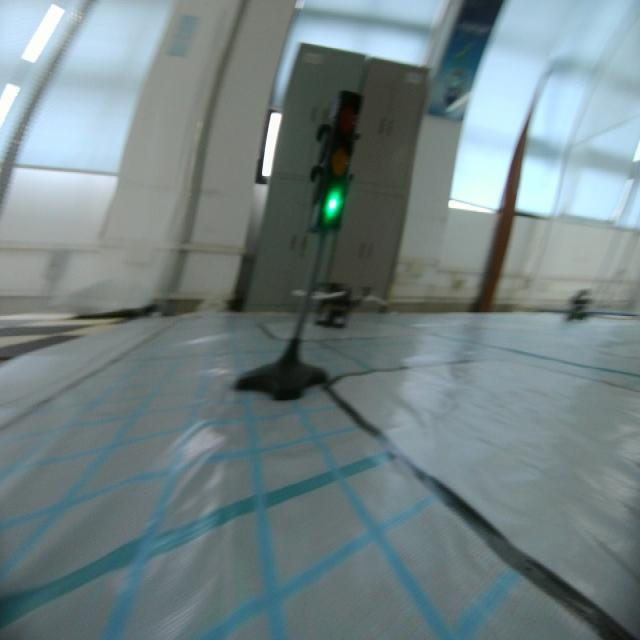green: (315, 81, 351, 242)
